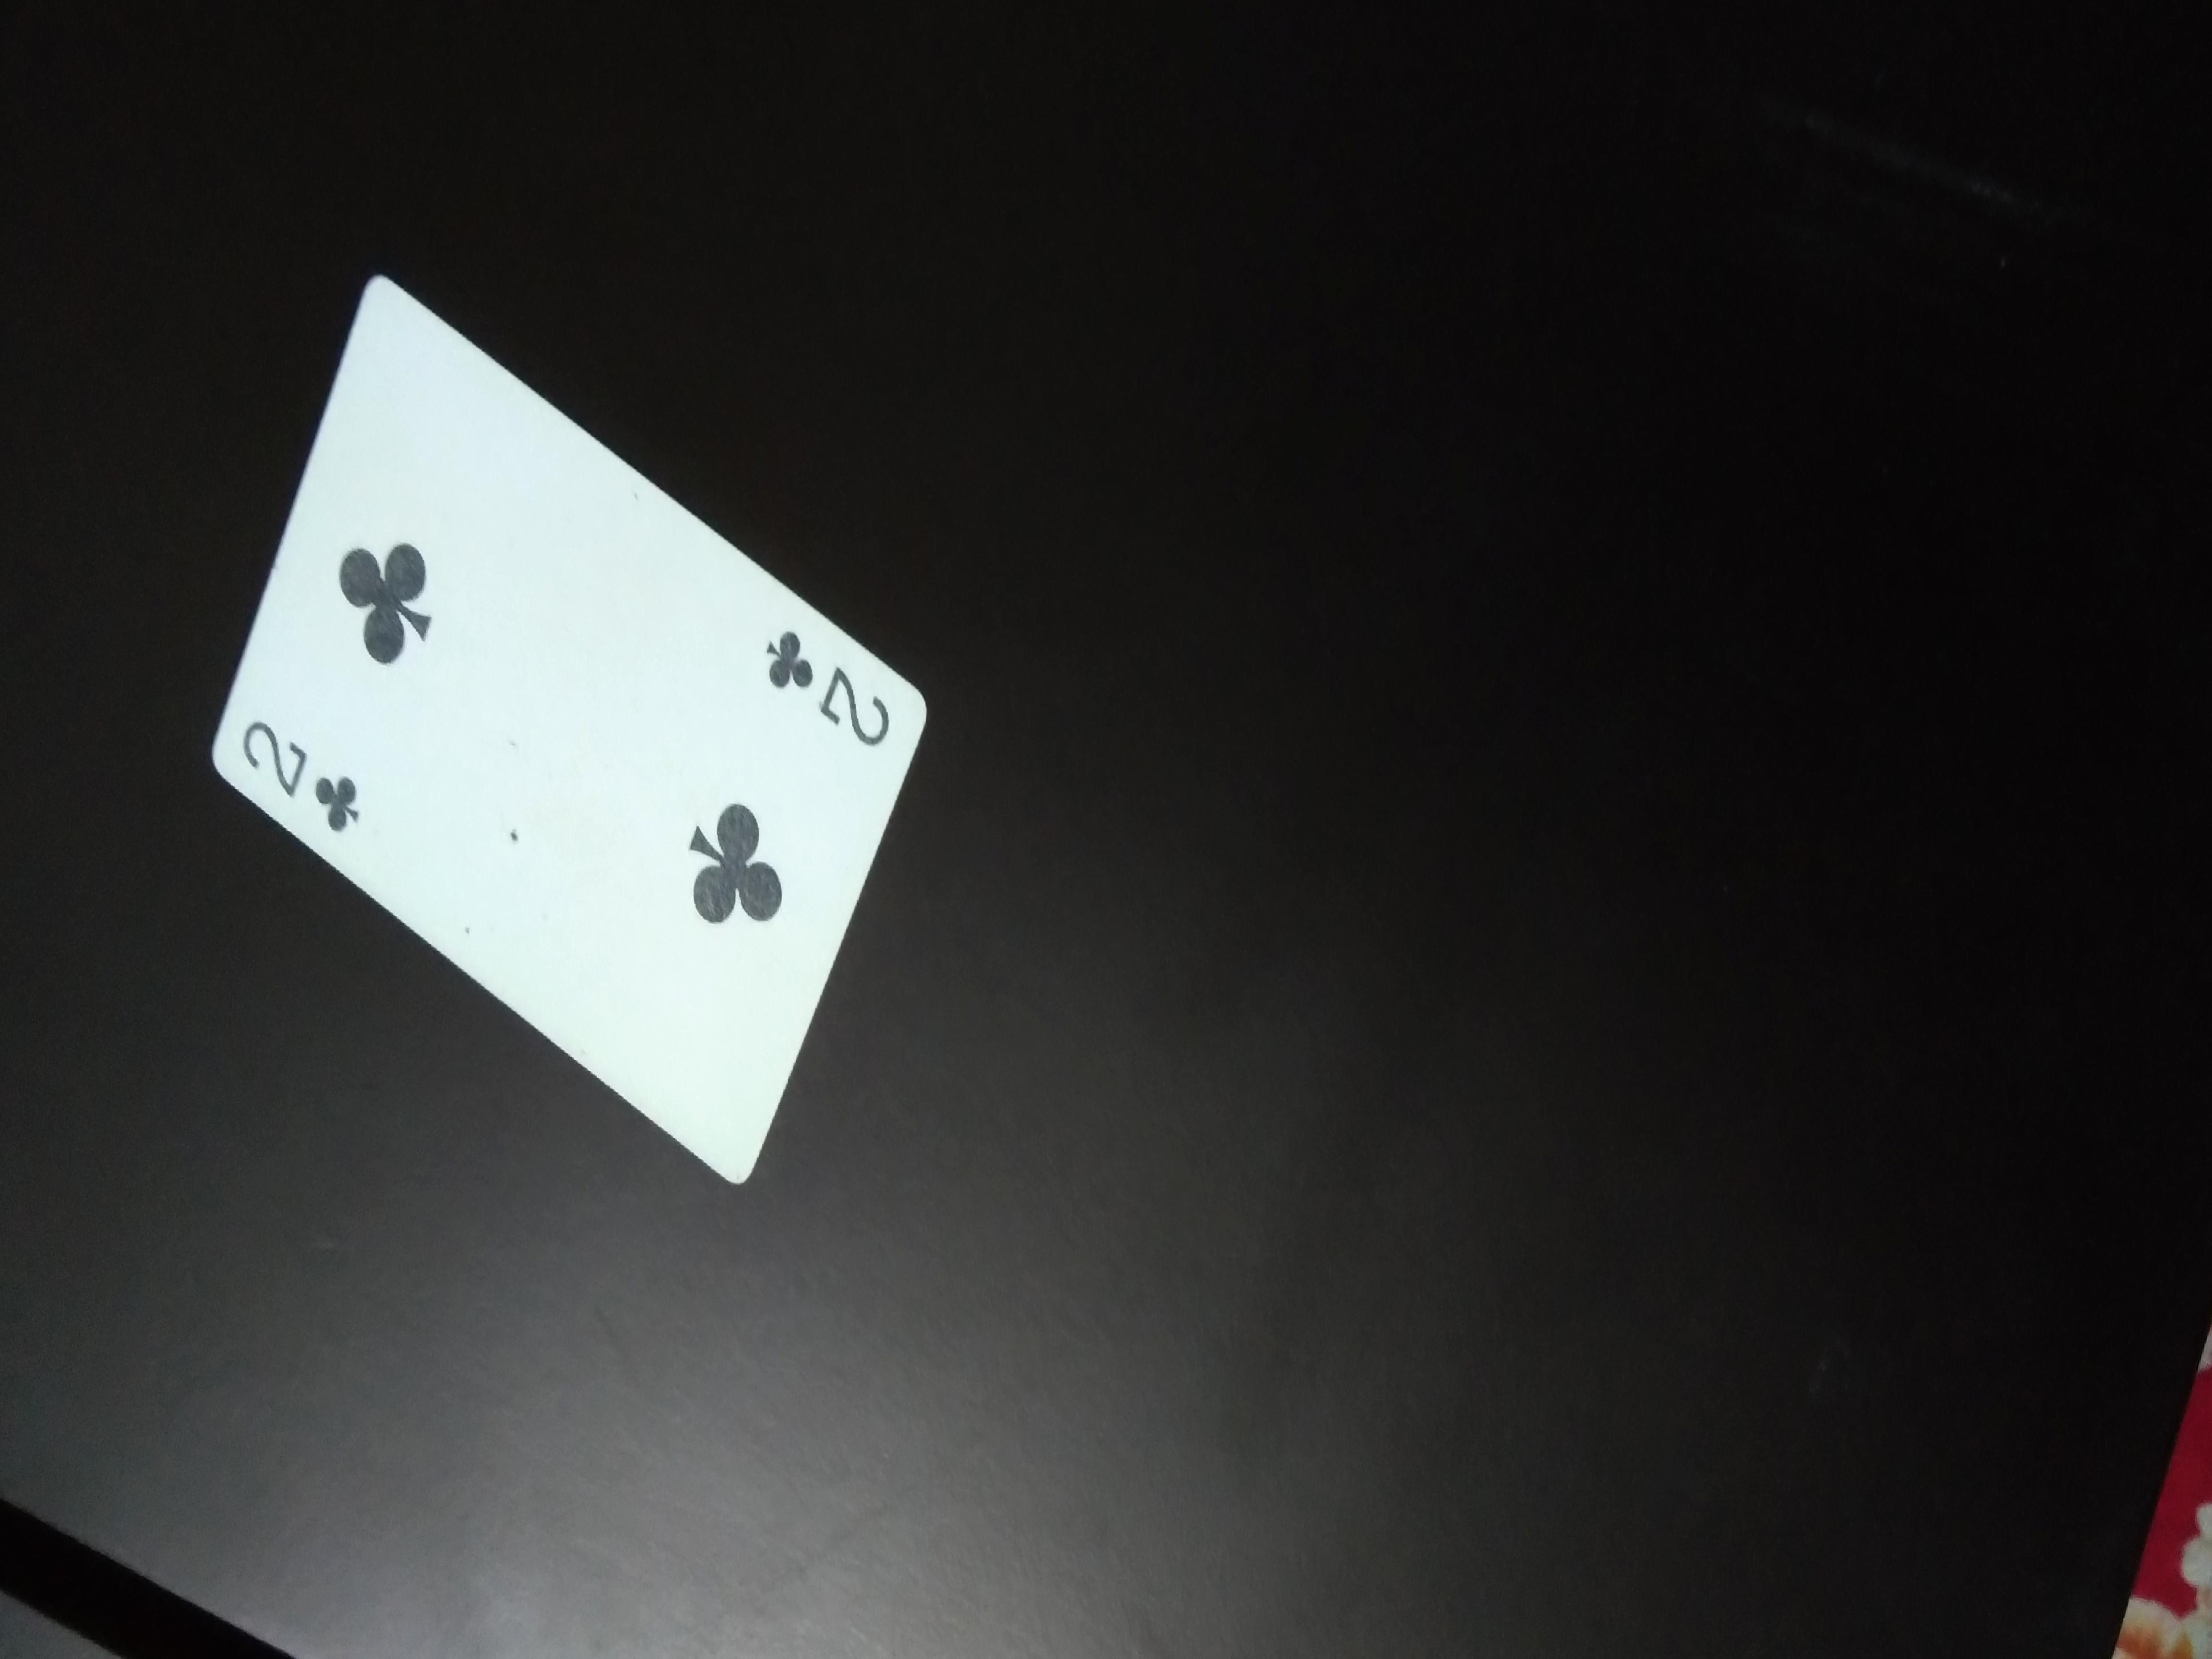2C: (214, 704, 394, 847)
